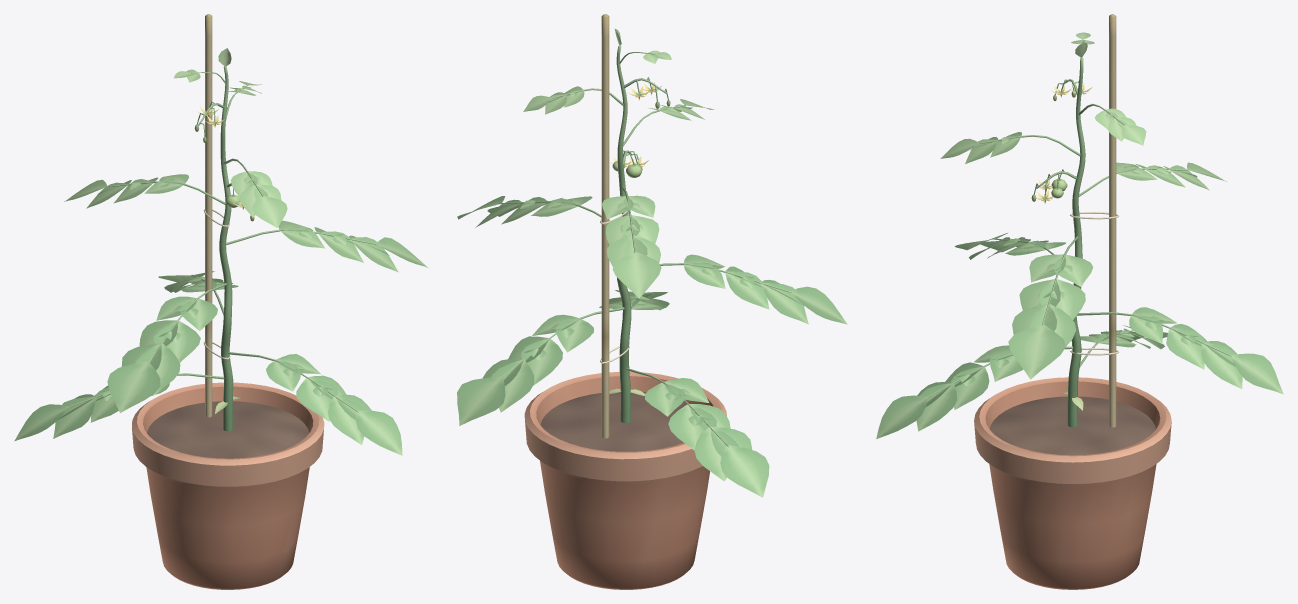
The model's file is tomato_stage3.glb.
The picture shows the model from 3 angles, left to right: view 1: azimuth 30°, elevation 25°; view 2: azimuth 150°, elevation 25°; view 3: azimuth 270°, elevation 25°; orthographic projection. The views are drawn at different scales.
Visible parts, largest first — view 1: tomato_stage3; view 2: tomato_stage3; view 3: tomato_stage3.
Part boxes in pixels (x1,y1,x2,y2): tomato_stage3: (14, 14, 427, 589); tomato_stage3: (457, 14, 847, 589); tomato_stage3: (876, 14, 1283, 589).
Size of the model in its own units: 0.4724 by 0.6865 by 0.462.
